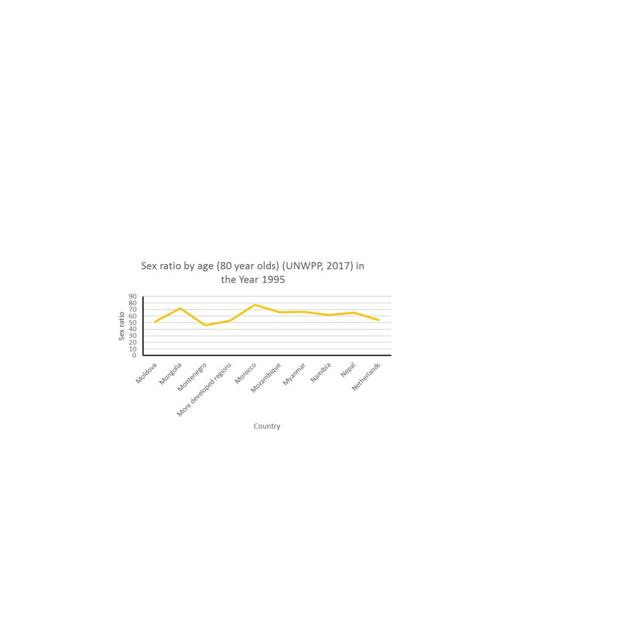Graph: (108, 254, 395, 433)
